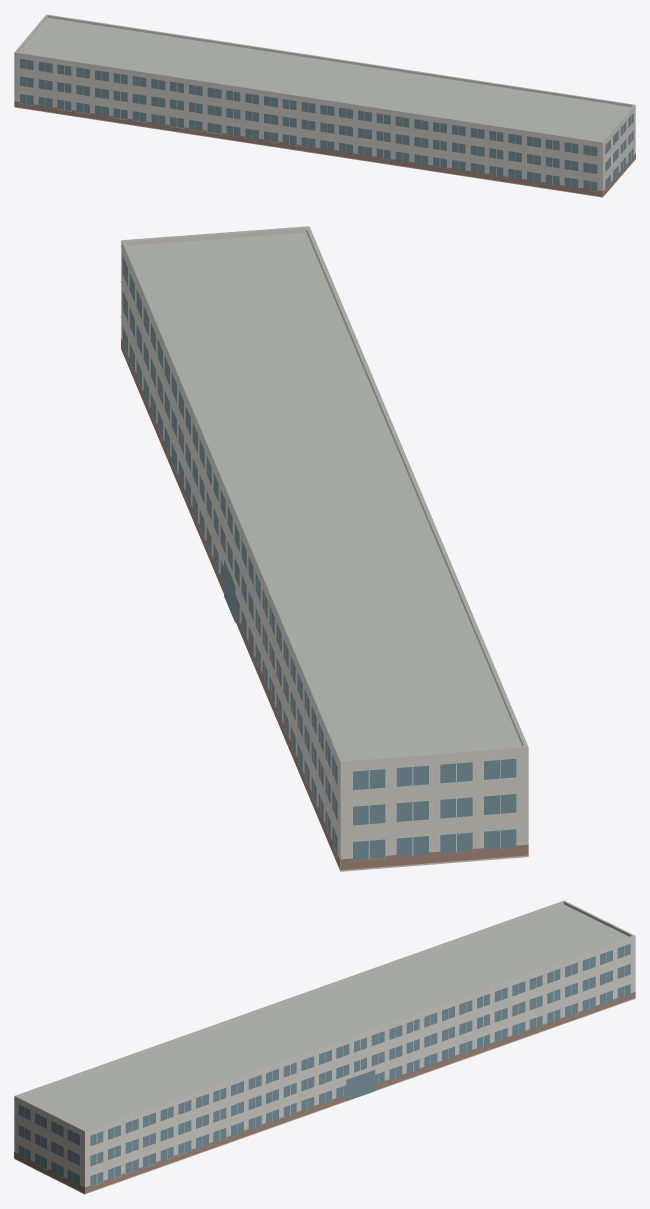
The model's file is public-e8701ae8-4788-4bd2-abf6-7b0436126799.glb.
The picture shows the model from 3 angles, top to bottom: view 1: azimuth 30°, elevation 25°; view 2: azimuth 150°, elevation 25°; view 3: azimuth 270°, elevation 25°; orthographic projection. The views are drawn at different scales.
Visible parts, largest first — view 1: public-e8701ae8-4788-4bd2-abf6-7b0436126799; view 2: public-e8701ae8-4788-4bd2-abf6-7b0436126799; view 3: public-e8701ae8-4788-4bd2-abf6-7b0436126799.
Boxes of the visible parts, box(x1,y1,x2,y2) form: public-e8701ae8-4788-4bd2-abf6-7b0436126799: box(14, 14, 635, 197); public-e8701ae8-4788-4bd2-abf6-7b0436126799: box(120, 226, 528, 871); public-e8701ae8-4788-4bd2-abf6-7b0436126799: box(14, 900, 635, 1194).
Size of the model in its own units: 71.93 by 9.15 by 81.74.
